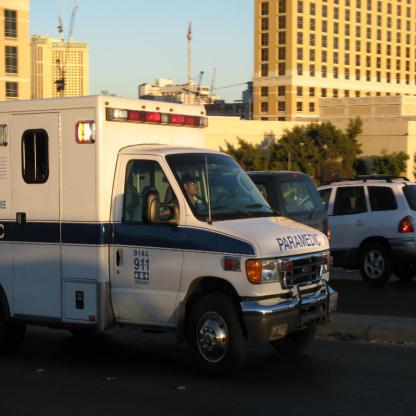Ambulance: (0, 95, 338, 378)
Car: (294, 174, 415, 288), (205, 169, 330, 277)
Truck: (0, 94, 338, 376)
